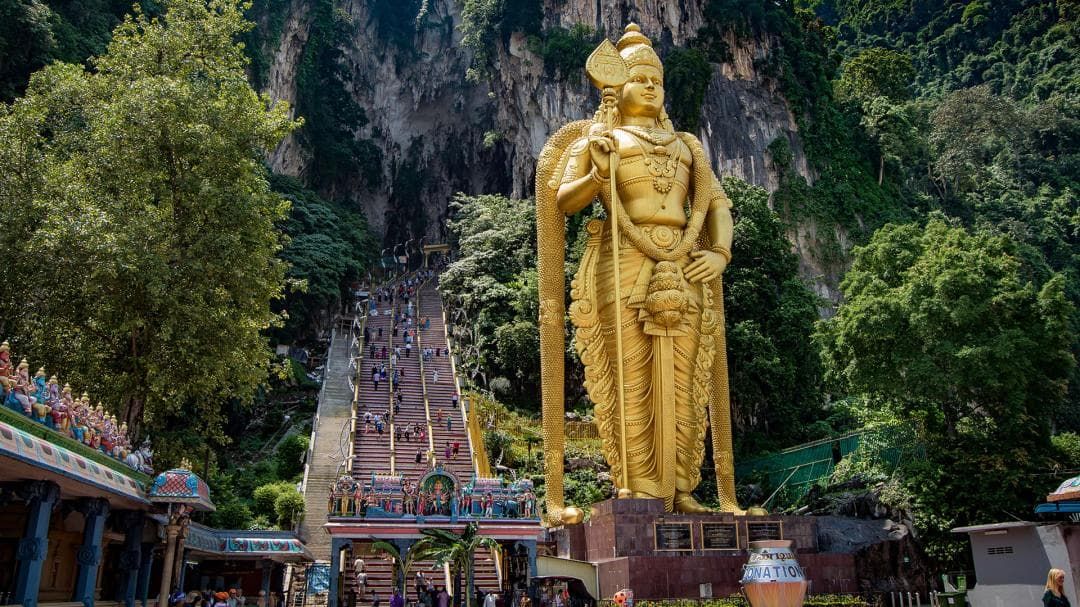Hindu Temple: (533, 15, 741, 520)
